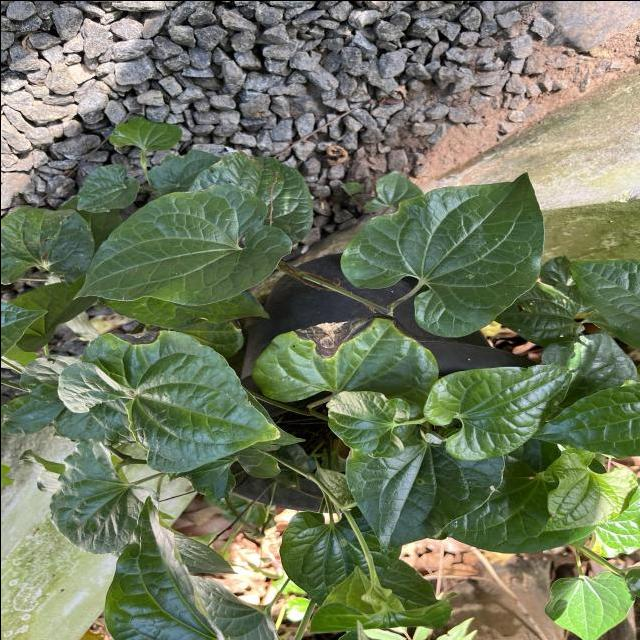Piper longum: (338, 167, 546, 339), (70, 180, 293, 308), (341, 452, 506, 558), (420, 362, 574, 462), (541, 568, 640, 640)
